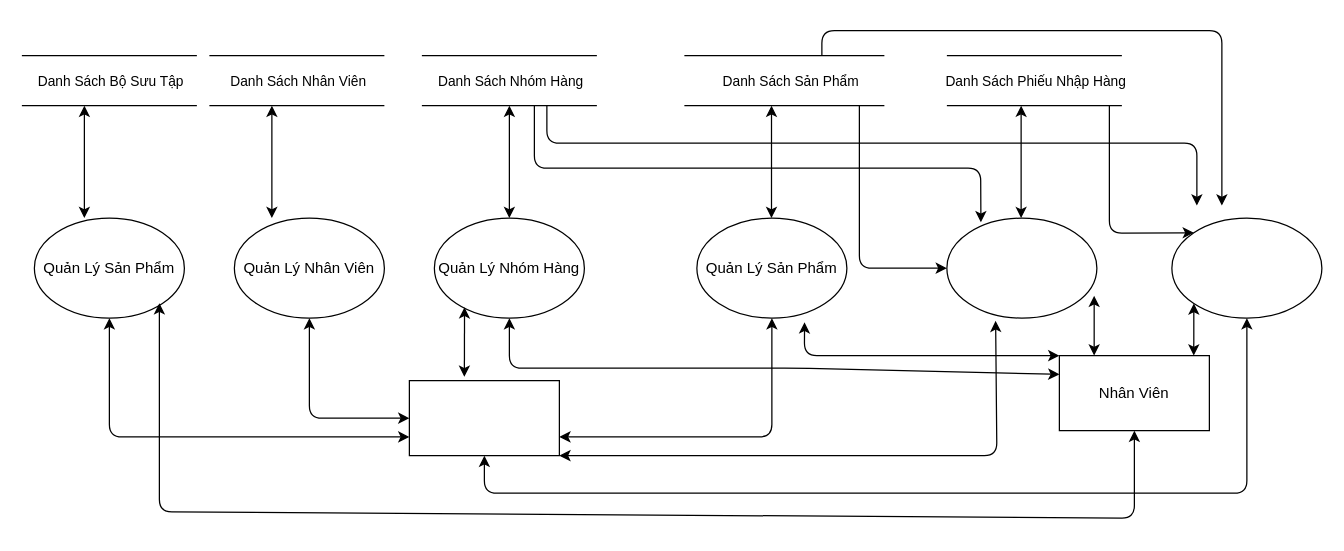
The diagram is 1344 pixels wide and 551 high, and some of its shapes have lost their labels. Each missing label, with the centre of its shape:
"Báo Cáo" belongs at [1246,267].
"Quản Lý" belongs at [483,417].
"Quản Lý Phiếu Nhập Hàng" belongs at [1021,267].
